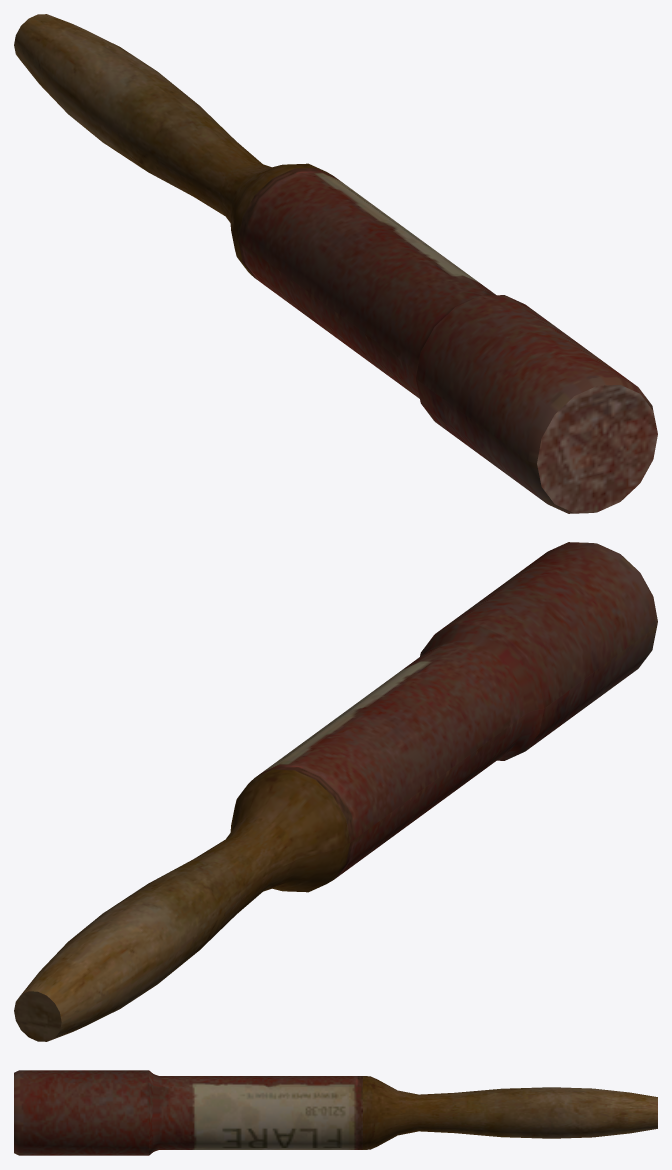
The model's file is weapon_mp_flare_stick_lod01.obj.
The picture shows the model from 3 angles, top to bottom: view 1: azimuth 30°, elevation 25°; view 2: azimuth 150°, elevation 25°; view 3: azimuth 270°, elevation 25°; orthographic projection. The views are drawn at different scales.
Visible parts, largest first — view 1: TomGroup_0; view 2: TomGroup_0; view 3: TomGroup_0.
Part boxes in pixels (box(x1,y1,x2,y2)): TomGroup_0: box(14, 14, 657, 513); TomGroup_0: box(14, 542, 657, 1041); TomGroup_0: box(14, 1070, 657, 1155).
Bounding box in the file's own units: 4.72 × 4.72 × 35.63.
1 material, 1 textured.
